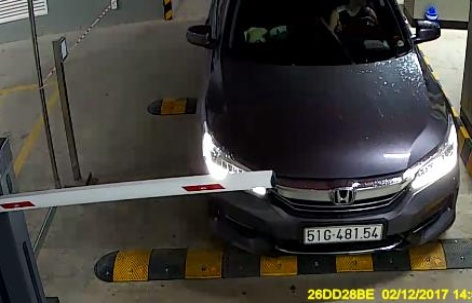plate: (299, 220, 386, 244)
